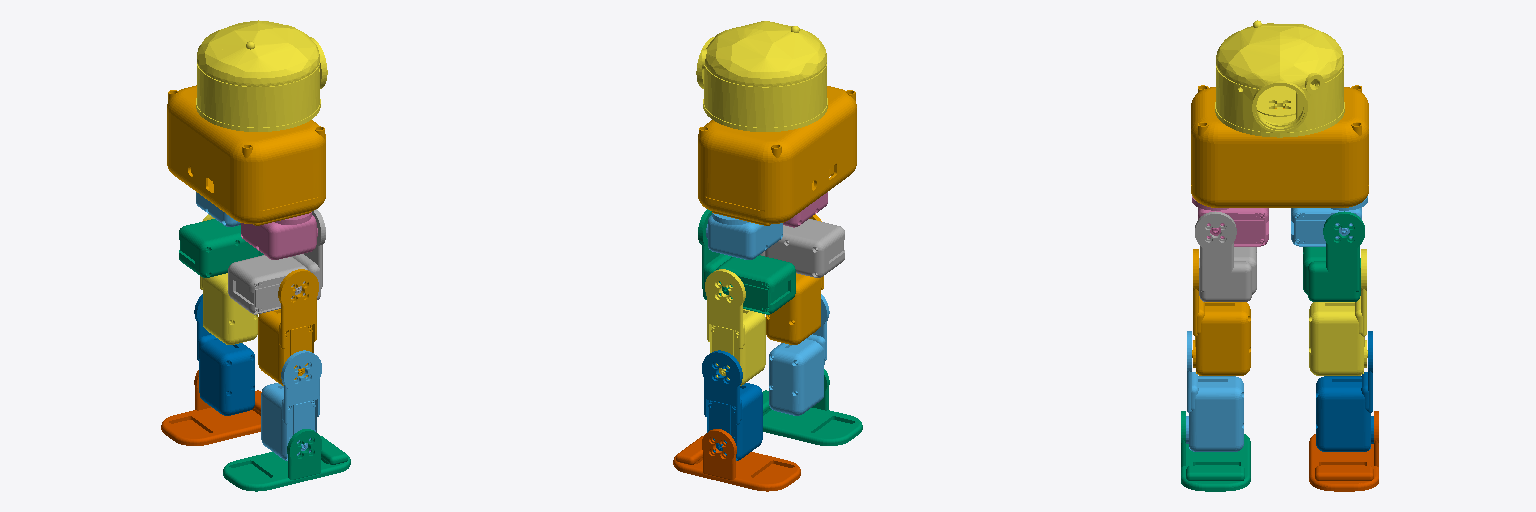
URDF robot description (bleep):
<?xml version="1.0"?>
<robot name="bleep">
  <link name="base">
    <inertial><origin xyz="-0.010954 -1.1049e-05 0.23958"/><mass value="0.3734"/><inertia ixx="5.1522e-04" ixy="-1.4732e-07" ixz="-4.4337e-06" iyy="2.5970e-04" iyz="-3.2798e-08" izz="5.2889e-04"/></inertial>
    <visual><geometry><mesh filename="meshes/base.obj"/></geometry></visual>
    <collision name="body_tub"><origin xyz="-0.01 0 0.2336"/><geometry><box size="0.08 0.128 0.042"/></geometry></collision>
    <collision name="body_lid"><origin xyz="-0.01 0 0.26685"/><geometry><box size="0.08 0.128 0.0245"/></geometry></collision>
  </link>
  <link name="l_hip_yaw">
    <inertial><origin xyz="-0.00051683 -0.012261 -0.018401"/><mass value="0.0741"/><inertia ixx="1.7771e-05" ixy="4.1829e-09" ixz="3.0506e-10" iyy="1.2238e-05" iyz="-2.0873e-07" izz="2.1267e-05"/></inertial>
    <visual><geometry><mesh filename="meshes/l_hip_yaw.obj"/></geometry></visual>
    <collision name="l_hip_bracket"><origin xyz="-0.00255 -0.010453 -0.01695"/><geometry><box size="0.0399 0.054894 0.0337"/></geometry></collision>
  </link>
  <link name="l_hip_roll">
    <inertial><origin xyz="-0.028946 -0.0070351 -0.038583"/><mass value="0.0806"/><inertia ixx="1.9302e-05" ixy="-5.6644e-07" ixz="-3.6335e-06" iyy="2.8269e-05" iyz="-8.0609e-07" izz="2.6331e-05"/></inertial>
    <visual><geometry><mesh filename="meshes/l_hip_roll.obj"/></geometry></visual>
    <collision name="l_hip_carrier"><origin xyz="-0.0264 -0.0072592 -0.020801"/><geometry><box size="0.061 0.044482 0.071598"/></geometry></collision>
  </link>
  <link name="l_hip_pitch">
    <inertial><origin xyz="3.3921e-10 -0.014381 -0.049546"/><mass value="0.0755"/><inertia ixx="2.9067e-05" ixy="5.5320e-13" ixz="-1.3429e-13" iyy="2.5318e-05" iyz="-1.6216e-06" izz="1.2323e-05"/></inertial>
    <visual><geometry><mesh filename="meshes/l_hip_pitch.obj"/></geometry></visual>
    <collision name="l_thigh"><origin xyz="0 -0.01645 -0.0307"/><geometry><box size="0.032946 0.0411 0.0944"/></geometry></collision>
  </link>
  <link name="l_knee">
    <inertial><origin xyz="-1.3354e-09 -0.01443 -0.044982"/><mass value="0.0750"/><inertia ixx="2.7321e-05" ixy="-2.7755e-13" ixz="4.4447e-12" iyy="2.3586e-05" iyz="-1.3838e-06" izz="1.2226e-05"/></inertial>
    <visual><geometry><mesh filename="meshes/l_knee.obj"/></geometry></visual>
    <collision name="l_shin"><origin xyz="0 -0.01645 -0.0282"/><geometry><box size="0.032946 0.0411 0.0894"/></geometry></collision>
  </link>
  <link name="l_ankle">
    <inertial><origin xyz="-0.00077649 -0.016336 -0.015451"/><mass value="0.0217"/><inertia ixx="5.1536e-06" ixy="1.1986e-07" ixz="-1.2973e-07" iyy="1.2149e-05" iyz="-9.2676e-07" izz="1.4088e-05"/></inertial>
    <visual><geometry><mesh filename="meshes/l_ankle.obj"/></geometry></visual>
    <collision name="l_foot_sole"><origin xyz="-0.002 -0.02095 -0.0245"/><geometry><box size="0.096 0.0501 0.005"/></geometry></collision>
  </link>
  <link name="r_hip_yaw">
    <inertial><origin xyz="-0.00051683 0.012261 -0.018401"/><mass value="0.0741"/><inertia ixx="1.7771e-05" ixy="-4.1829e-09" ixz="3.0506e-10" iyy="1.2238e-05" iyz="2.0873e-07" izz="2.1267e-05"/></inertial>
    <visual><geometry><mesh filename="meshes/r_hip_yaw.obj"/></geometry></visual>
    <collision name="r_hip_bracket"><origin xyz="-0.00255 0.010453 -0.01695"/><geometry><box size="0.0399 0.054894 0.0337"/></geometry></collision>
  </link>
  <link name="r_hip_roll">
    <inertial><origin xyz="-0.028946 0.0070351 -0.038583"/><mass value="0.0806"/><inertia ixx="1.9302e-05" ixy="5.6644e-07" ixz="-3.6335e-06" iyy="2.8269e-05" iyz="8.0609e-07" izz="2.6331e-05"/></inertial>
    <visual><geometry><mesh filename="meshes/r_hip_roll.obj"/></geometry></visual>
    <collision name="r_hip_carrier"><origin xyz="-0.0264 0.0072592 -0.020801"/><geometry><box size="0.061 0.044482 0.071598"/></geometry></collision>
  </link>
  <link name="r_hip_pitch">
    <inertial><origin xyz="3.3921e-10 0.014381 -0.049546"/><mass value="0.0755"/><inertia ixx="2.9067e-05" ixy="-5.5320e-13" ixz="-1.3429e-13" iyy="2.5318e-05" iyz="1.6216e-06" izz="1.2323e-05"/></inertial>
    <visual><geometry><mesh filename="meshes/r_hip_pitch.obj"/></geometry></visual>
    <collision name="r_thigh"><origin xyz="0 0.01645 -0.0307"/><geometry><box size="0.032946 0.0411 0.0944"/></geometry></collision>
  </link>
  <link name="r_knee">
    <inertial><origin xyz="-1.3354e-09 0.01443 -0.044982"/><mass value="0.0750"/><inertia ixx="2.7321e-05" ixy="2.7755e-13" ixz="4.4447e-12" iyy="2.3586e-05" iyz="1.3838e-06" izz="1.2226e-05"/></inertial>
    <visual><geometry><mesh filename="meshes/r_knee.obj"/></geometry></visual>
    <collision name="r_shin"><origin xyz="0 0.01645 -0.0282"/><geometry><box size="0.032946 0.0411 0.0894"/></geometry></collision>
  </link>
  <link name="r_ankle">
    <inertial><origin xyz="-0.00077649 0.016336 -0.015451"/><mass value="0.0217"/><inertia ixx="5.1536e-06" ixy="-1.1986e-07" ixz="-1.2973e-07" iyy="1.2149e-05" iyz="9.2676e-07" izz="1.4088e-05"/></inertial>
    <visual><geometry><mesh filename="meshes/r_ankle.obj"/></geometry></visual>
    <collision name="r_foot_sole"><origin xyz="-0.002 0.02095 -0.0245"/><geometry><box size="0.096 0.0501 0.005"/></geometry></collision>
  </link>
  <link name="head">
    <inertial><origin xyz="0.0091904 0.0028866 0.024162"/><mass value="0.0765"/><inertia ixx="4.6971e-05" ixy="-2.4125e-06" ixz="-3.6716e-06" iyy="5.8910e-05" iyz="-2.1174e-06" izz="6.9206e-05"/></inertial>
    <visual><geometry><mesh filename="meshes/head.obj"/></geometry></visual>
    <collision name="head_dome"><origin xyz="0.001 -2.2877e-06 0.0333"/><geometry><box size="0.094 0.091959 0.0594"/></geometry></collision>
  </link>
  <joint name="l_hip_yaw" type="revolute"><parent link="base"/><child link="l_hip_yaw"/><origin xyz="0 0.046 0.2122"/><axis xyz="0 0 1"/><limit lower="-0.4363" upper="0.4363" effort="1.65" velocity="4.8"/></joint>
  <joint name="l_hip_roll" type="revolute"><parent link="l_hip_yaw"/><child link="l_hip_roll"/><origin xyz="0.019 0 -0.0187"/><axis xyz="1 0 0"/><limit lower="-0.3491" upper="0.3491" effort="1.65" velocity="4.8"/></joint>
  <joint name="l_hip_pitch" type="revolute"><parent link="l_hip_roll"/><child link="l_hip_pitch"/><origin xyz="-0.019 0.012 -0.0415"/><axis xyz="0 1 0"/><limit lower="-1.5708" upper="0.5236" effort="1.65" velocity="4.8"/></joint>
  <joint name="l_knee" type="revolute"><parent link="l_hip_pitch"/><child link="l_knee"/><origin xyz="0 0.0045 -0.065"/><axis xyz="0 1 0"/><limit lower="-0.0873" upper="1.9199" effort="1.65" velocity="4.8"/></joint>
  <joint name="l_ankle" type="revolute"><parent link="l_knee"/><child link="l_ankle"/><origin xyz="0 0.0045 -0.06"/><axis xyz="0 1 0"/><limit lower="-0.7854" upper="0.7854" effort="1.65" velocity="4.8"/></joint>
  <joint name="r_hip_yaw" type="revolute"><parent link="base"/><child link="r_hip_yaw"/><origin xyz="0 -0.046 0.2122"/><axis xyz="0 0 1"/><limit lower="-0.4363" upper="0.4363" effort="1.65" velocity="4.8"/></joint>
  <joint name="r_hip_roll" type="revolute"><parent link="r_hip_yaw"/><child link="r_hip_roll"/><origin xyz="0.019 0 -0.0187"/><axis xyz="1 0 0"/><limit lower="-0.3491" upper="0.3491" effort="1.65" velocity="4.8"/></joint>
  <joint name="r_hip_pitch" type="revolute"><parent link="r_hip_roll"/><child link="r_hip_pitch"/><origin xyz="-0.019 -0.012 -0.0415"/><axis xyz="0 1 0"/><limit lower="-1.5708" upper="0.5236" effort="1.65" velocity="4.8"/></joint>
  <joint name="r_knee" type="revolute"><parent link="r_hip_pitch"/><child link="r_knee"/><origin xyz="0 -0.0045 -0.065"/><axis xyz="0 1 0"/><limit lower="-0.0873" upper="1.9199" effort="1.65" velocity="4.8"/></joint>
  <joint name="r_ankle" type="revolute"><parent link="r_knee"/><child link="r_ankle"/><origin xyz="0 -0.0045 -0.06"/><axis xyz="0 1 0"/><limit lower="-0.7854" upper="0.7854" effort="1.65" velocity="4.8"/></joint>
  <joint name="neck_yaw" type="revolute"><parent link="base"/><child link="head"/><origin xyz="0 0 0.2795"/><axis xyz="0 0 1"/><limit lower="-2.0944" upper="2.0944" effort="1.65" velocity="4.8"/></joint>
</robot>

--- Facts derived from the render (not from the file) ---
The picture shows the robot from 3 angles, left to right: view 1: azimuth 30°, elevation 25°; view 2: azimuth 150°, elevation 25°; view 3: azimuth 270°, elevation 25°; orthographic projection.
Robot: bleep — 12 links, 11 joints (11 revolute); root link base; default pose: every joint at zero.
Visible links, largest first — view 1: base, head, r_hip_pitch, r_knee, r_ankle, l_knee, r_hip_roll, l_hip_roll, l_ankle, l_hip_pitch, r_hip_yaw; view 2: base, head, l_hip_pitch, l_knee, l_ankle, r_knee, l_hip_roll, r_hip_roll, r_ankle, r_hip_pitch, l_hip_yaw; view 3: base, head, l_hip_pitch, r_hip_pitch, l_knee, r_knee, l_hip_roll, r_hip_roll, l_ankle, r_ankle, l_hip_yaw, r_hip_yaw.
Link boxes in pixels (box(x1,y1,x2,y2)): base: box(167, 85, 325, 225); head: box(196, 20, 327, 131); r_hip_pitch: box(258, 269, 318, 385); r_knee: box(261, 350, 321, 460); r_ankle: box(223, 429, 350, 491); l_knee: box(194, 294, 254, 415); r_hip_roll: box(228, 209, 325, 314); l_hip_roll: box(179, 219, 263, 277); l_ankle: box(161, 370, 261, 445); l_hip_pitch: box(200, 214, 257, 344); r_hip_yaw: box(241, 212, 317, 259); base: box(698, 86, 856, 225); head: box(696, 21, 827, 131); l_hip_pitch: box(705, 269, 765, 385); l_knee: box(702, 350, 762, 460); l_ankle: box(673, 429, 800, 491); r_knee: box(769, 294, 829, 415); l_hip_roll: box(698, 209, 795, 314); r_hip_roll: box(760, 219, 844, 277); r_ankle: box(762, 369, 862, 445); r_hip_pitch: box(766, 214, 823, 344); l_hip_yaw: box(706, 213, 782, 259); base: box(1191, 85, 1368, 207); head: box(1215, 20, 1344, 137); l_hip_pitch: box(1309, 249, 1367, 375); r_hip_pitch: box(1192, 249, 1250, 375); l_knee: box(1316, 331, 1373, 451); r_knee: box(1186, 331, 1243, 451); l_hip_roll: box(1303, 211, 1364, 301); r_hip_roll: box(1195, 211, 1256, 301); l_ankle: box(1309, 411, 1378, 491); r_ankle: box(1181, 411, 1250, 491); l_hip_yaw: box(1291, 196, 1367, 246); r_hip_yaw: box(1192, 196, 1268, 246).
Bounding box of the posed robot: 0.098 × 0.1422 × 0.3425 m (x, y, z).
Meshes: 12 distinct files referenced, 12 mesh visuals loaded (12 OBJ).
